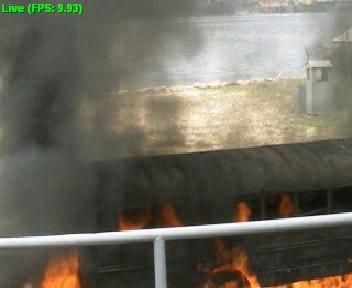fire: (40, 260, 80, 288)
smoke: (22, 42, 104, 226)
